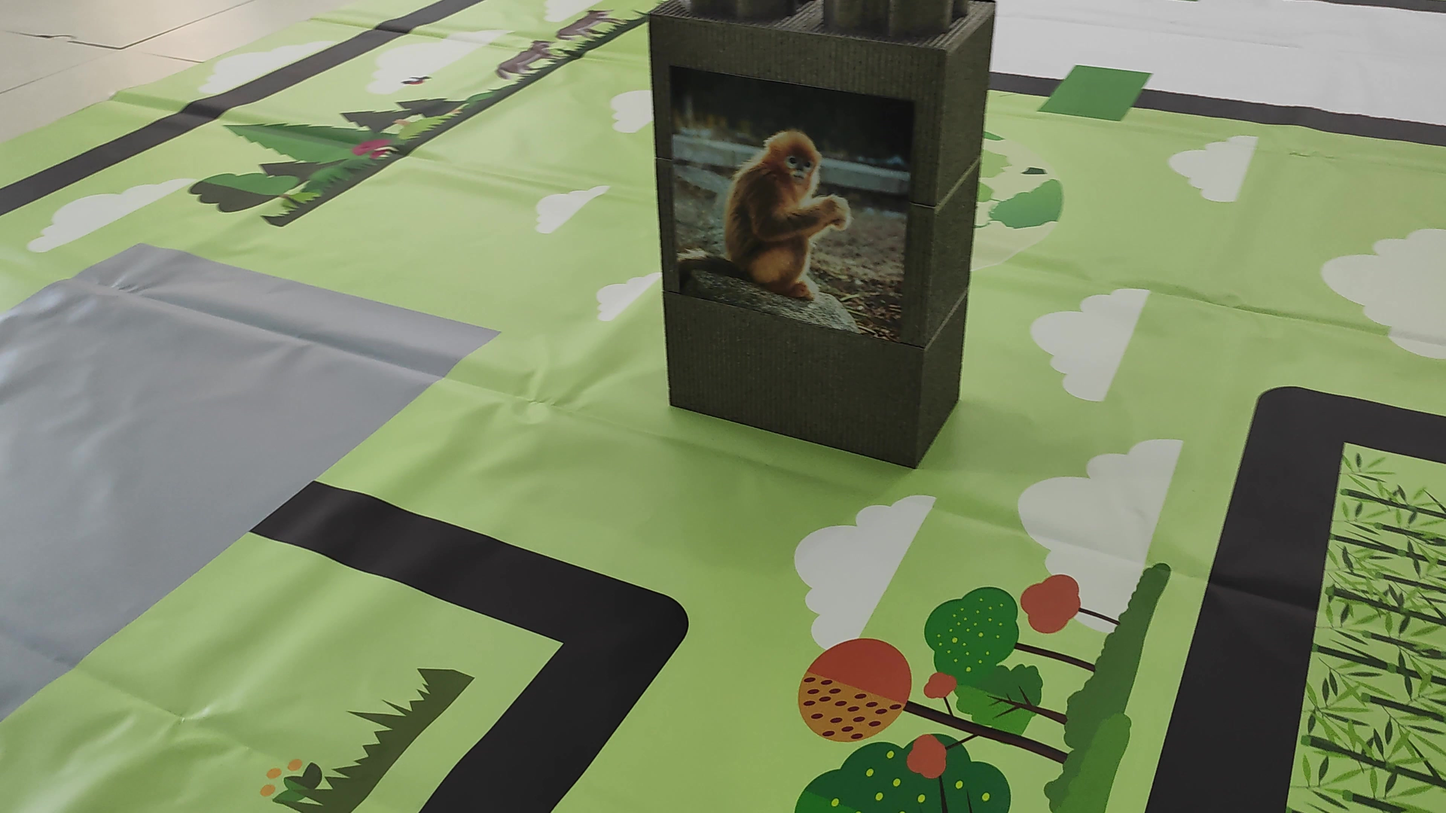monkey: (689, 96, 875, 318)
